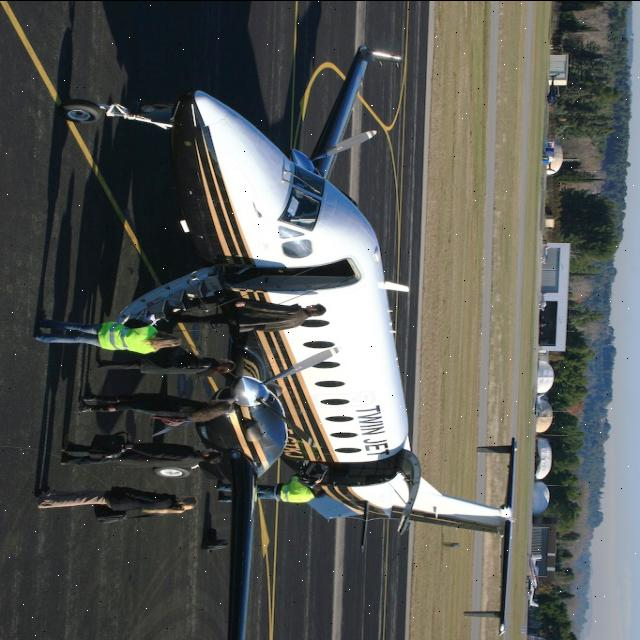jet: (20, 23, 566, 640)
